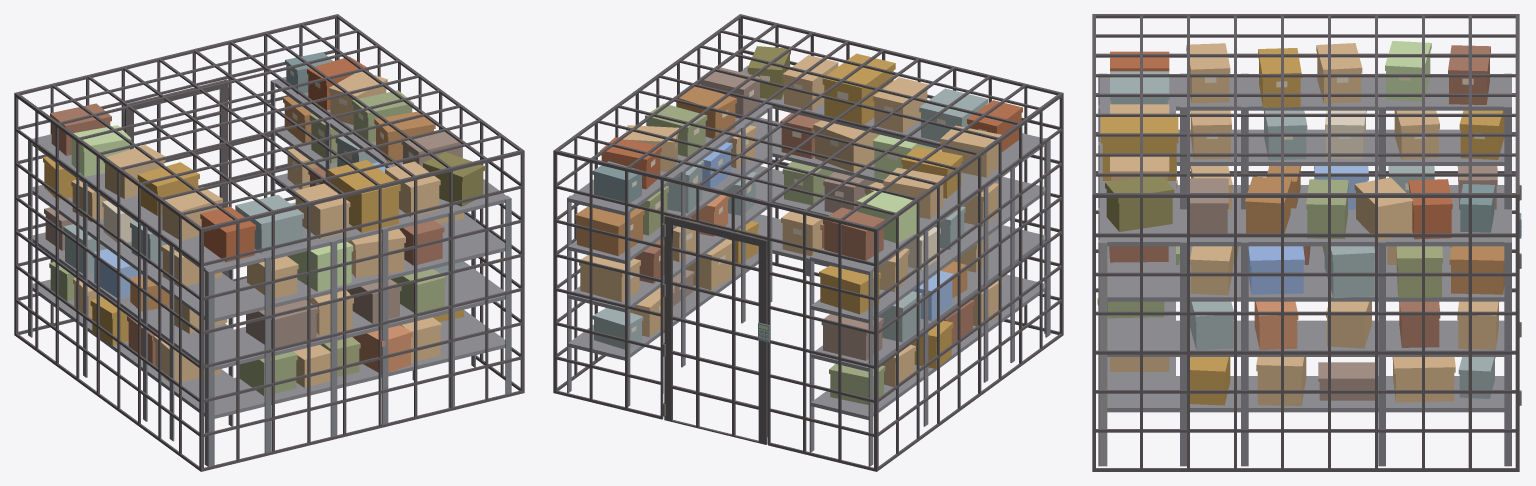
The model's file is g_o_EvidenceRoom.fbx.
3 views of the same model, side by side, from view 1: azimuth 30°, elevation 25°; view 2: azimuth 150°, elevation 25°; view 3: azimuth 270°, elevation 25° (orthographic). The views are drawn at different scales.
Parts seen in each view (by area): view 1: evidence_room; view 2: evidence_room; view 3: evidence_room.
Part boxes in pixels (box(x1,y1,x2,y2)): evidence_room: box(14, 14, 524, 471); evidence_room: box(553, 14, 1063, 471); evidence_room: box(1092, 14, 1521, 471).
Bounding box in the file's own units: 280 × 200 × 281.
